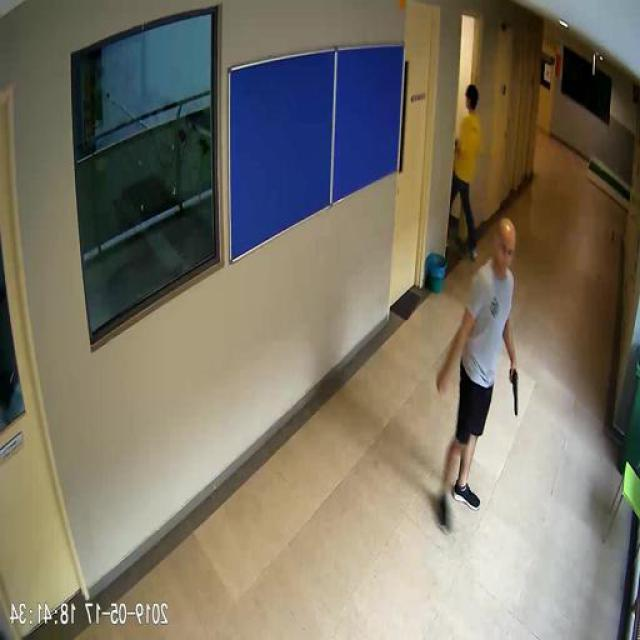Gun: (510, 366, 521, 415)
